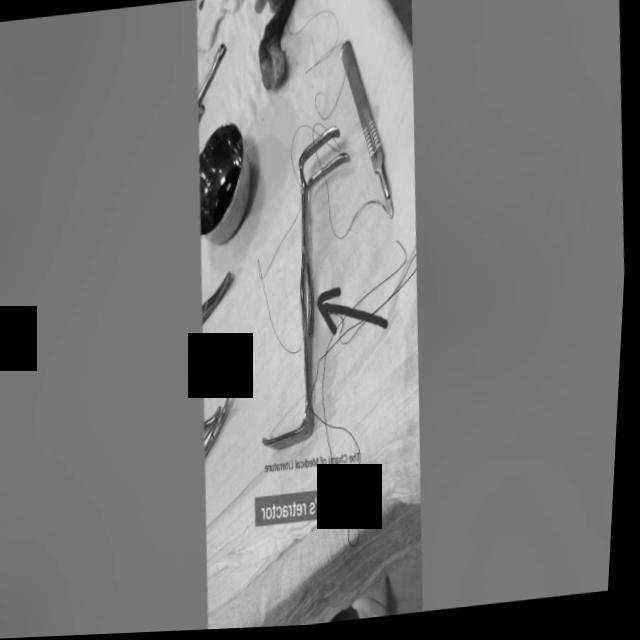Czerny Retractor: (248, 125, 370, 454)
